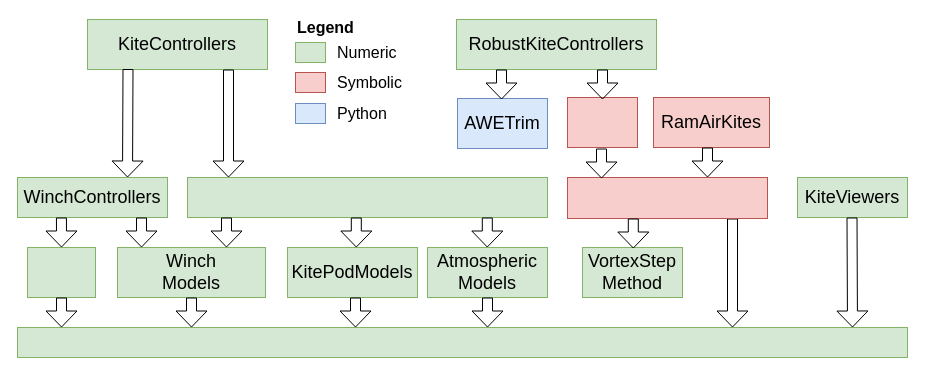
Some shapes in this 925 by 375 pixel diagram are drawn without their labels. The centre of each missing label's shape, as x and y in pixels:
"KiteModels" goes at [367,197].
"KiteUtils" goes at [462,342].
"SymbolicAWEModels" goes at [667,197].
"Tether Models" goes at [61,272].
"V3Kite" goes at [602,122].
